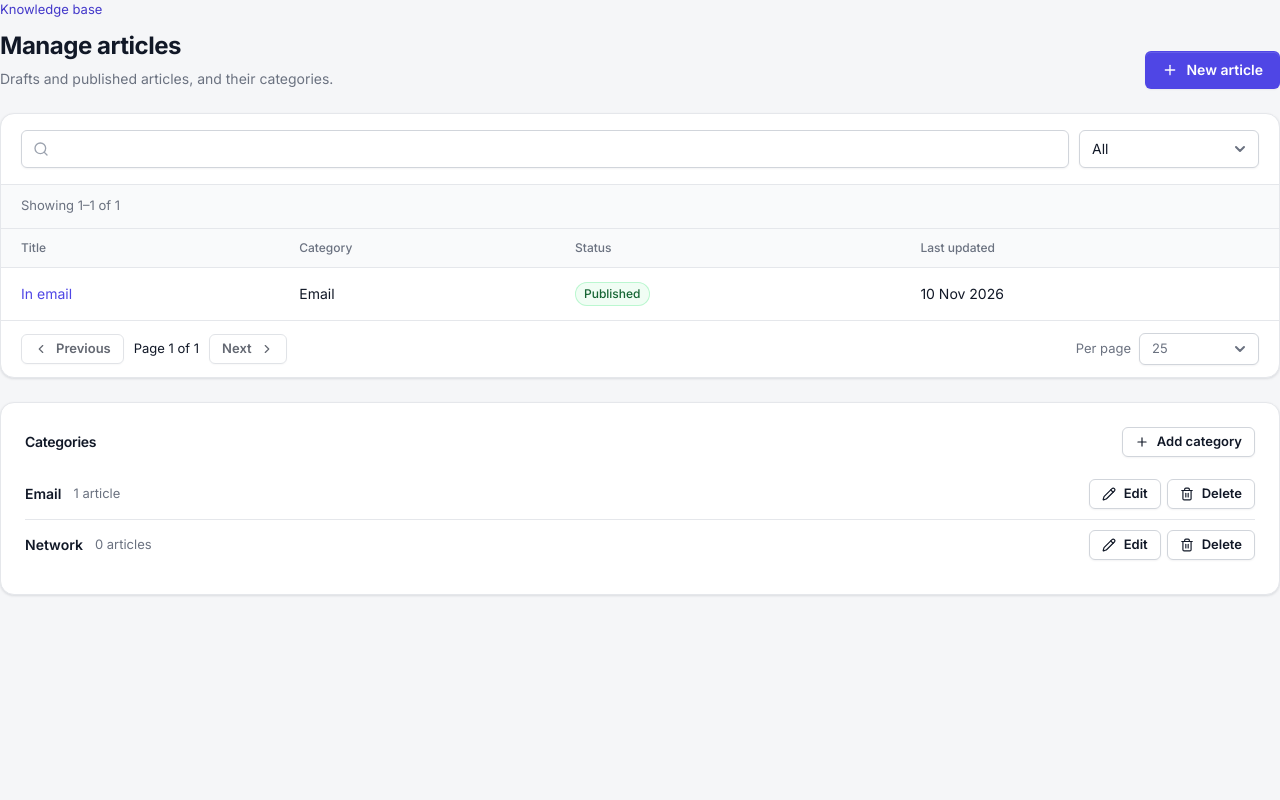
Scenario: categories › admins delete after confirming; a category with articles says why it stays
What coordinates should you click on to do the following:
click the button with aria-label "Delete Email"
I would click on:
 (1211, 494)
Its box is 1167,479 -> 1255,509.
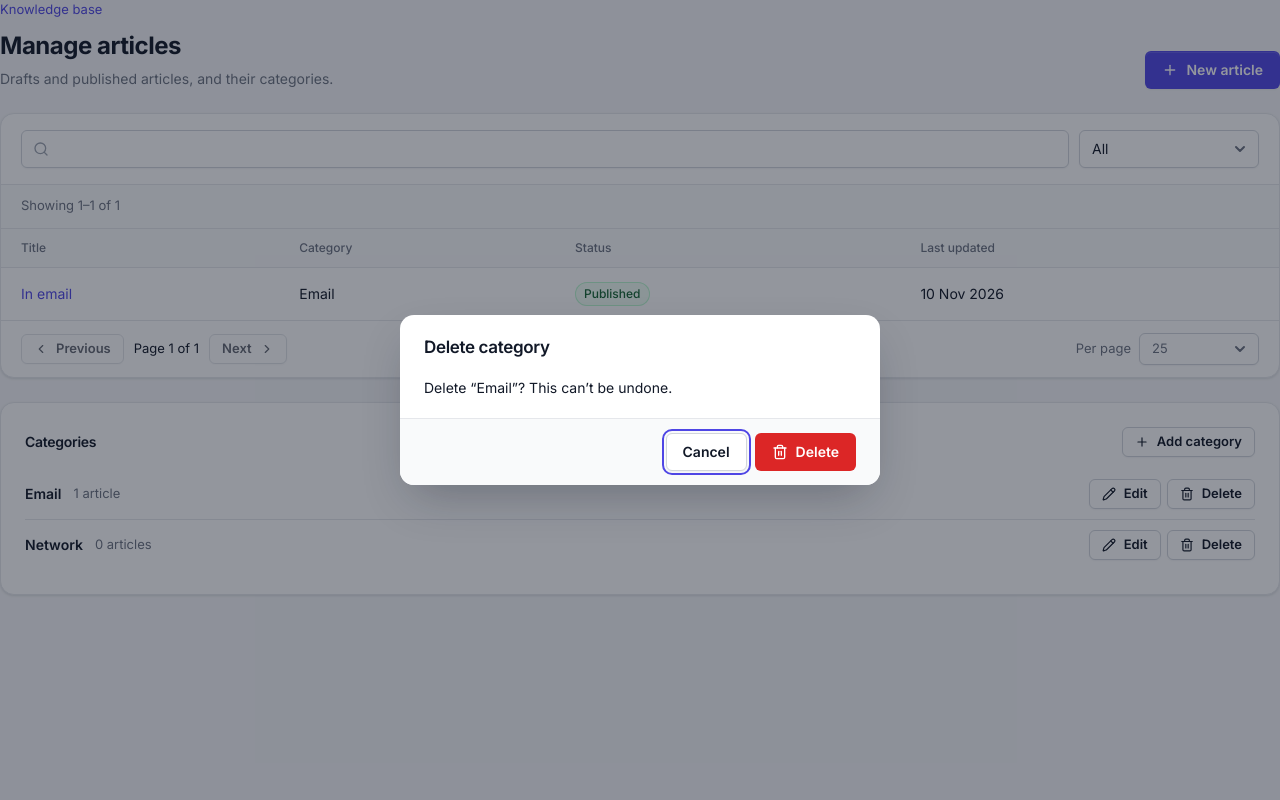
What coordinates should you click on to do the following:
click the button "Delete"
I would click on:
 (805, 452)
Its box is 755,433 -> 856,471.
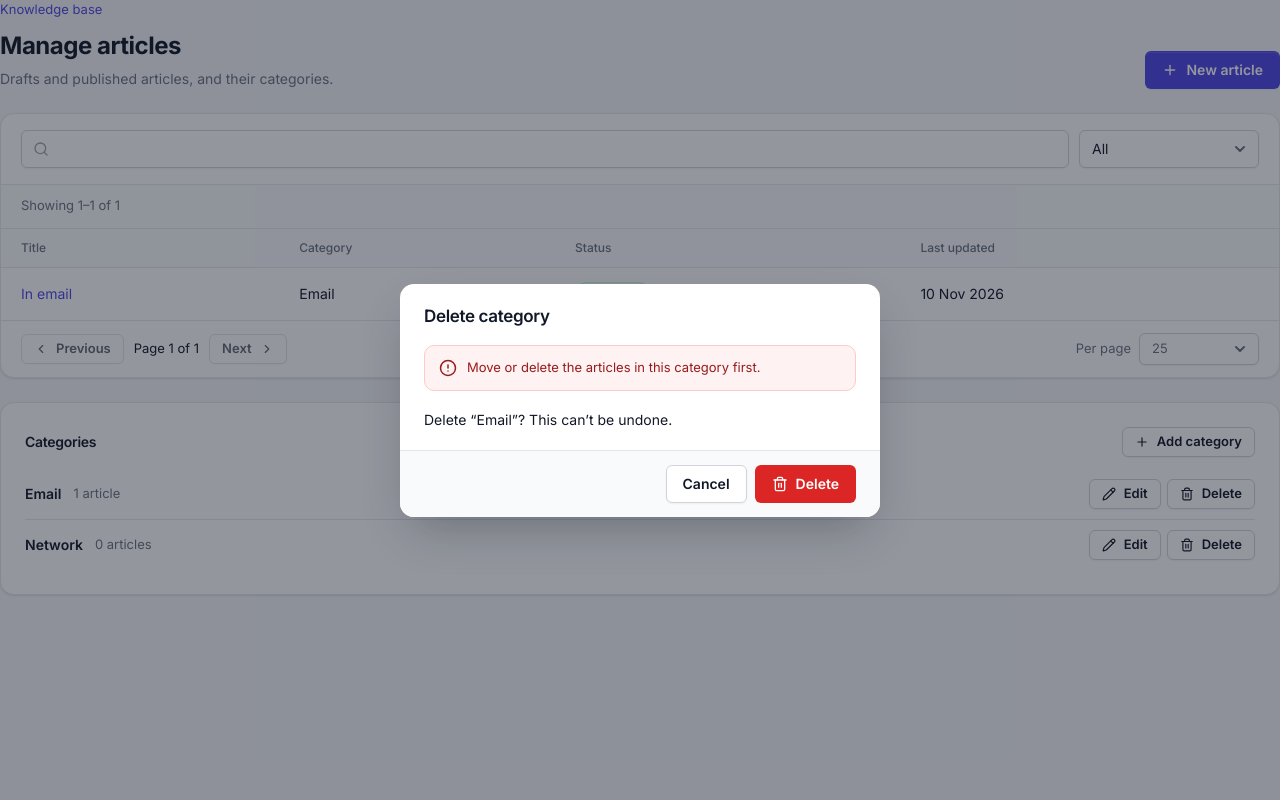
expect the text "Move or delete the articles in this category first." is shown: met, box 467,358 -> 760,378
What coordinates should you click on to do the following:
click the button "Cancel"
I would click on:
 (706, 484)
Its box is 666,464 -> 746,502.
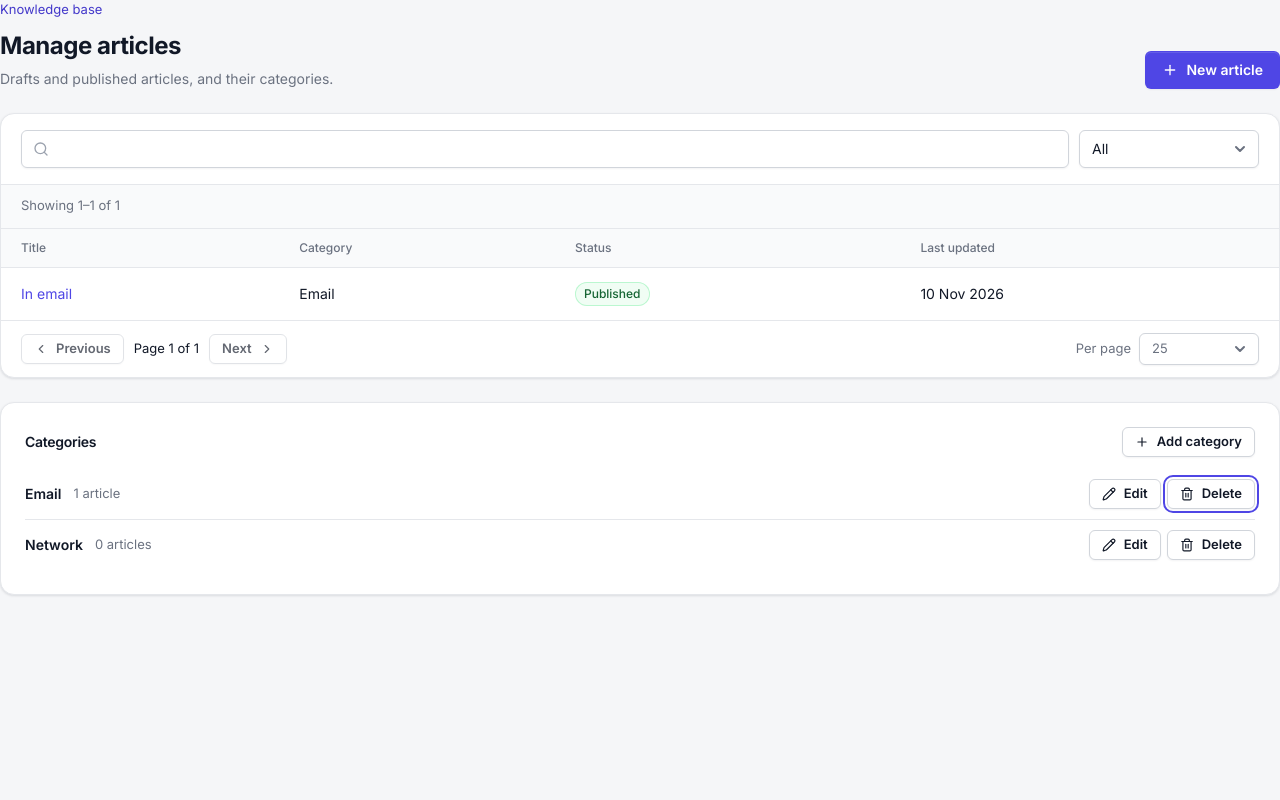
What coordinates should you click on to do the following:
click the button with aria-label "Delete Network"
I would click on:
 (1211, 545)
Its box is 1167,530 -> 1255,560.
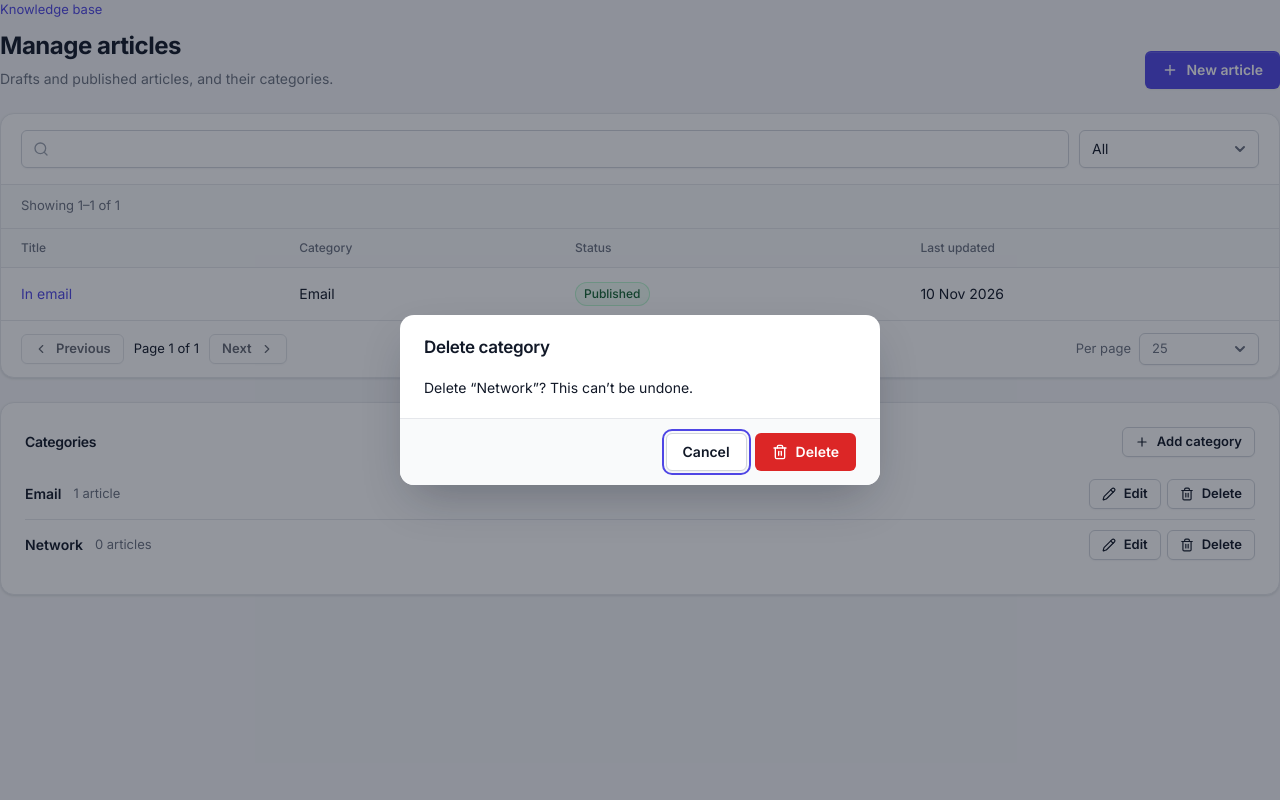
What coordinates should you click on to do the following:
click the button "Delete"
I would click on:
 (805, 452)
Its box is 755,433 -> 856,471.
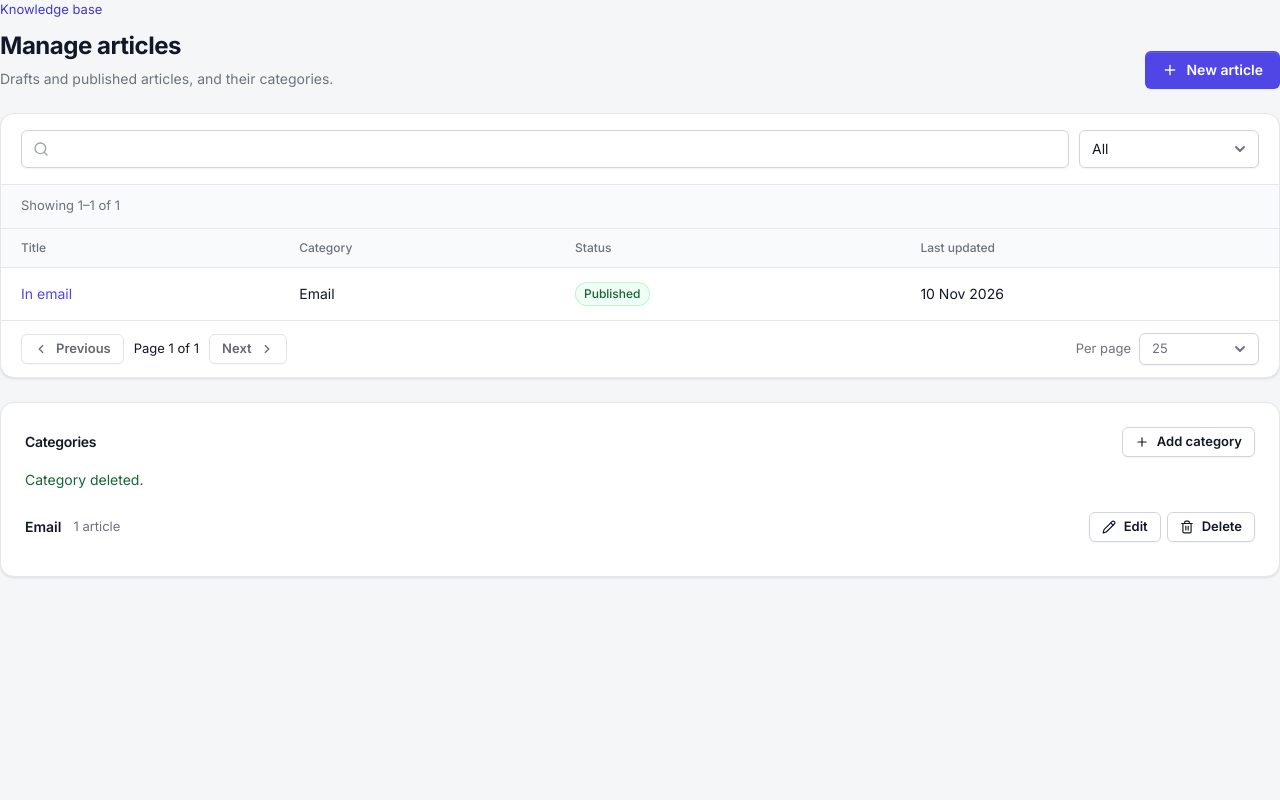
expect the text "Category deleted." is shown: met, box 25,471 -> 144,488
